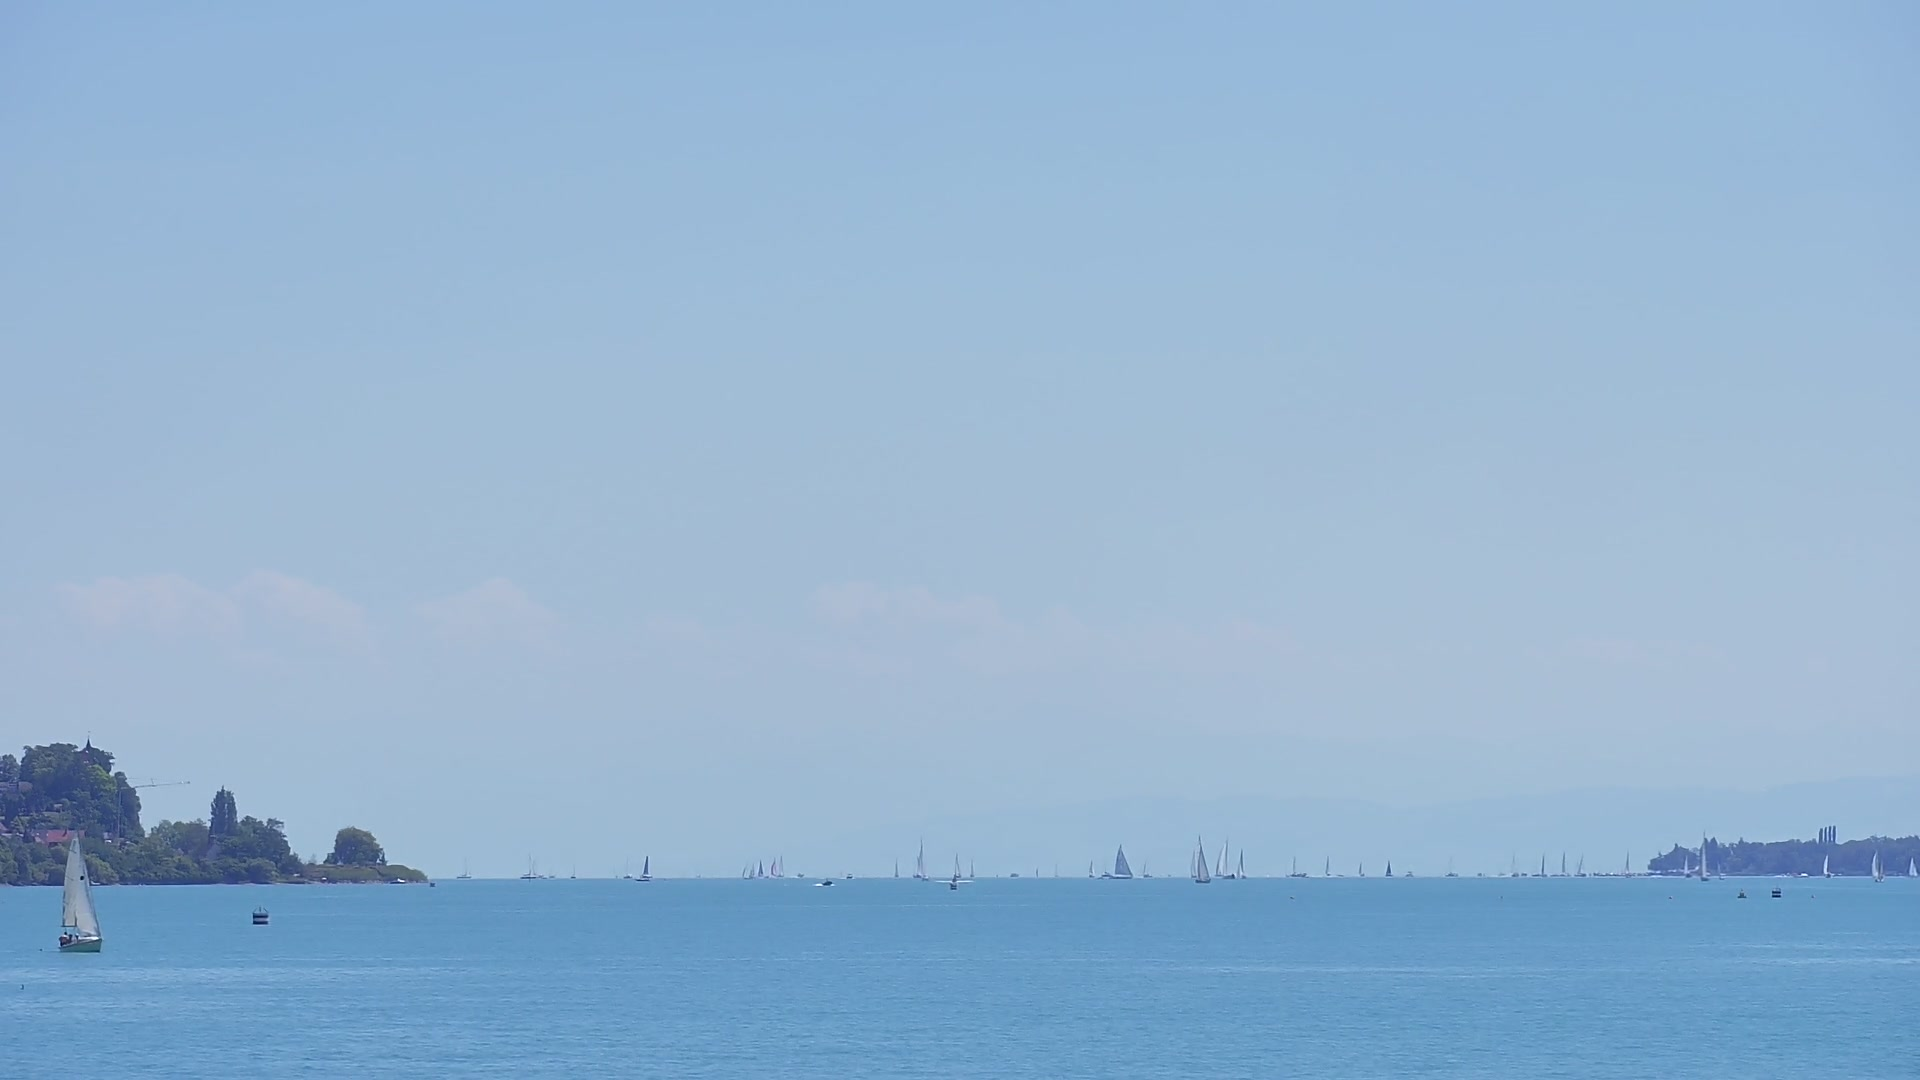sea: (58, 829, 102, 953), (1211, 836, 1236, 881), (1112, 843, 1135, 881), (1195, 833, 1212, 885), (1698, 829, 1712, 882), (1287, 855, 1309, 878), (1323, 853, 1344, 878), (916, 837, 928, 881), (518, 852, 535, 880), (455, 855, 472, 880), (949, 851, 963, 880), (1573, 853, 1588, 880), (1236, 847, 1246, 880), (1187, 849, 1197, 880), (641, 855, 651, 882), (622, 855, 633, 880), (1873, 848, 1880, 881), (1716, 862, 1727, 882), (1822, 853, 1832, 878), (1142, 858, 1153, 880), (967, 856, 976, 880), (913, 853, 920, 880), (1382, 857, 1393, 877), (1511, 849, 1519, 876), (1625, 849, 1633, 876), (777, 855, 785, 880), (1563, 851, 1571, 876), (1542, 852, 1549, 876), (1909, 856, 1919, 876), (1684, 855, 1692, 877), (769, 858, 777, 880), (1087, 858, 1095, 878), (1878, 858, 1884, 882), (893, 856, 899, 878), (822, 876, 833, 887), (748, 862, 756, 880), (1356, 858, 1364, 876), (568, 864, 576, 880), (1100, 870, 1112, 881), (1054, 862, 1062, 878), (1033, 865, 1040, 880), (1447, 868, 1458, 877), (1588, 870, 1600, 880), (740, 865, 746, 881), (758, 860, 764, 880), (1404, 870, 1415, 880), (535, 872, 547, 880), (1009, 872, 1021, 880), (1497, 870, 1510, 877), (796, 872, 806, 880), (847, 873, 855, 880), (994, 872, 998, 880)
